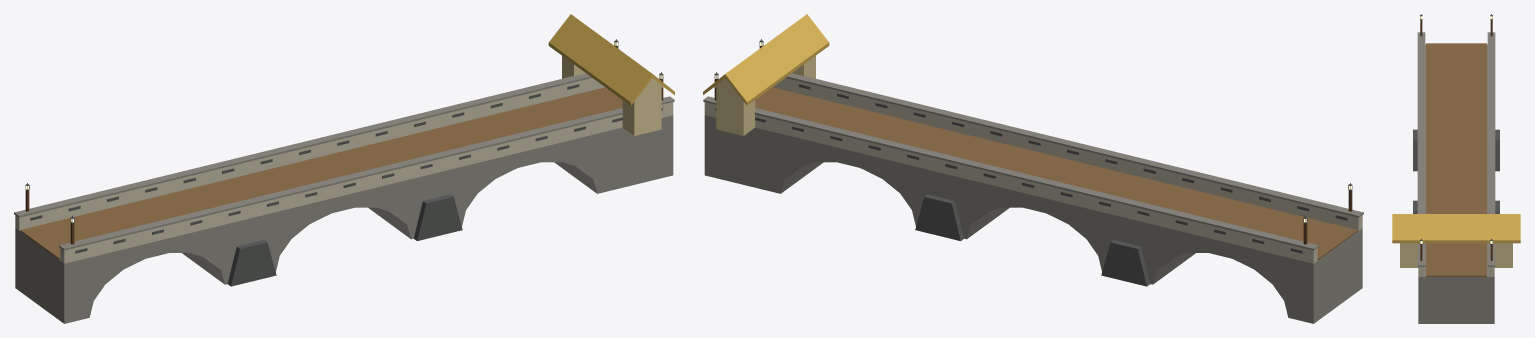
File: bridge_brandywine.glb
3 renders of one model, left to right at view 1: azimuth 30°, elevation 25°; view 2: azimuth 150°, elevation 25°; view 3: azimuth 270°, elevation 25°, orthographic. The views are drawn at different scales.
Parts seen in each view (by area): view 1: bridge_brandywine; view 2: bridge_brandywine; view 3: bridge_brandywine.
Boxes of the visible parts, x1=… form: bridge_brandywine: x1=14, y1=14, x2=674, y2=323; bridge_brandywine: x1=703, y1=14, x2=1363, y2=323; bridge_brandywine: x1=1392, y1=14, x2=1520, y2=323.
Size of what is drawn, in the model's own units: 36.1 by 6.92 by 8.4.
